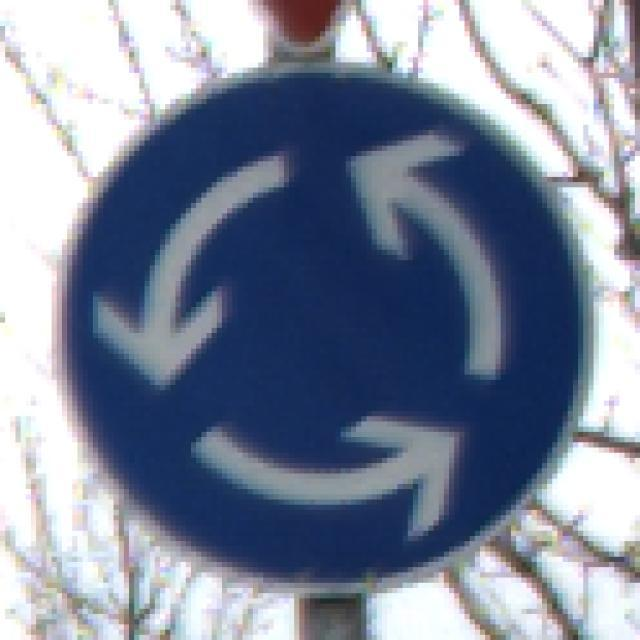roundabout: (53, 58, 602, 596)
